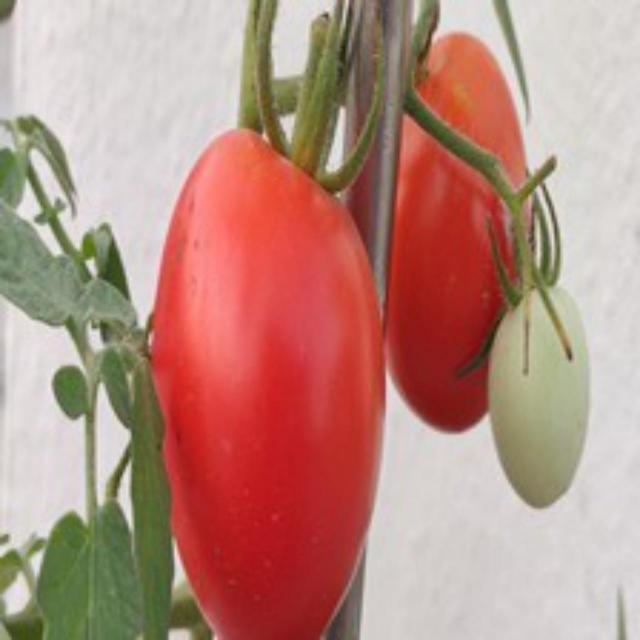tomato: (148, 94, 400, 637)
